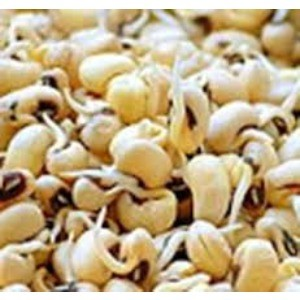beans_brain food: (61, 72, 215, 227)
